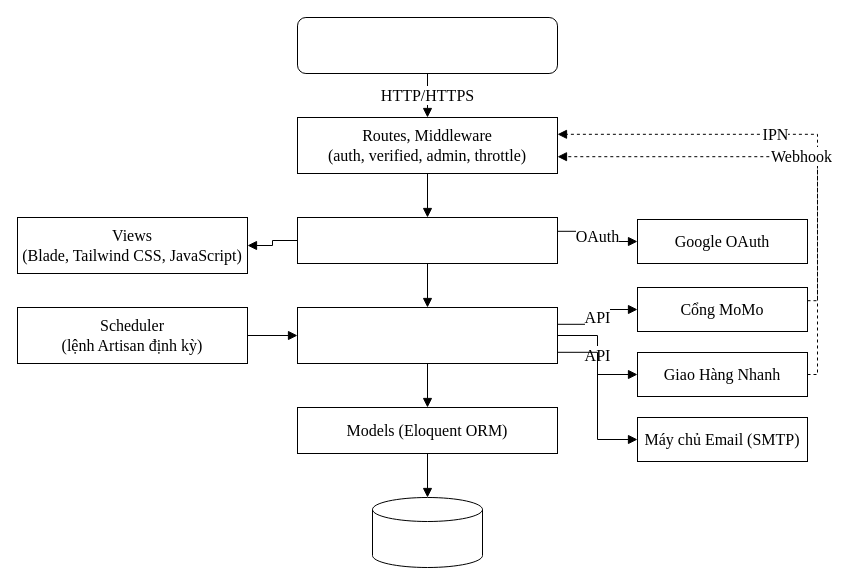
Image size: 849x585. Some labels were removed from this diagram. The shapes that lost their labels are listed below. From the top down, each one's centre as x and y in pixels, then its label:
At point (427, 45): "Trình duyệt người dùng (Khách hàng, Quản trị viên)".
At point (427, 240): "Controllers".
At point (427, 335): "Services (Cart, Momo, GHN, Loyalty, PhongThuy...)".
At point (427, 532): "MySQL".
